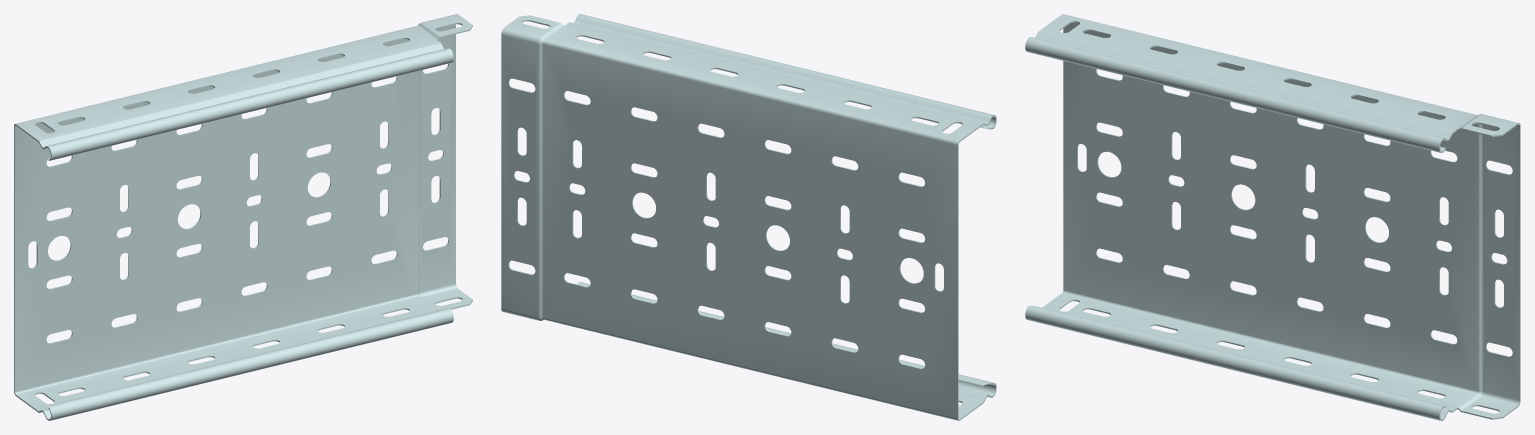
The model's file is model4 200x50 perf.glb.
3 views of the same model, side by side, from view 1: azimuth 30°, elevation 25°; view 2: azimuth 150°, elevation 25°; view 3: azimuth 330°, elevation 25° (orthographic). The views are drawn at different scales.
Visible parts, largest first — view 1: Чертеж1; view 2: Чертеж1; view 3: Чертеж1.
Part boxes in pixels (<box>): Чертеж1: <box>14,14,472,420</box>; Чертеж1: <box>501,14,996,420</box>; Чертеж1: <box>1025,14,1520,420</box>.
Bounding box in the file's own units: 1.7 × 1.01 × 0.2582.
